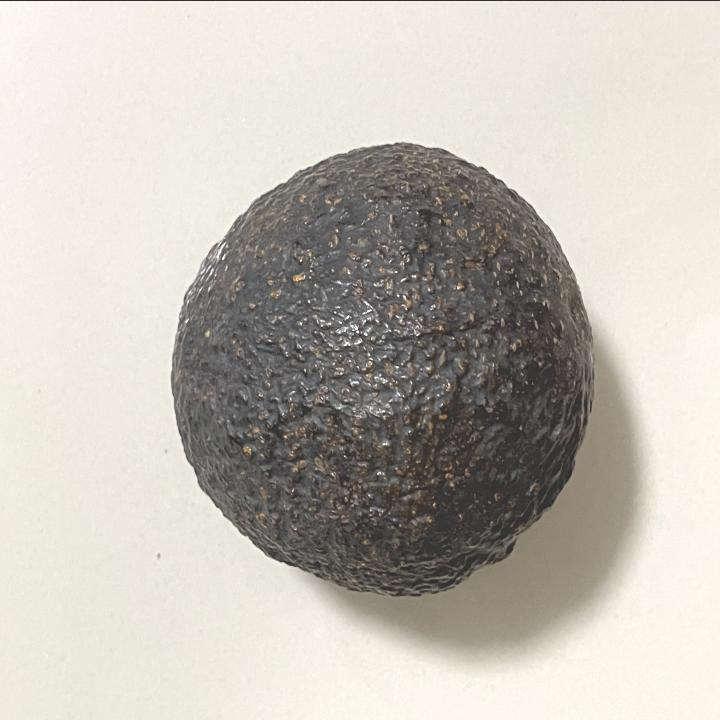Level2: (168, 131, 602, 605)
